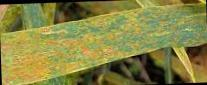Wheat: (3, 37, 90, 67), (124, 24, 193, 41), (56, 25, 119, 35), (92, 38, 121, 58), (194, 18, 207, 41)
